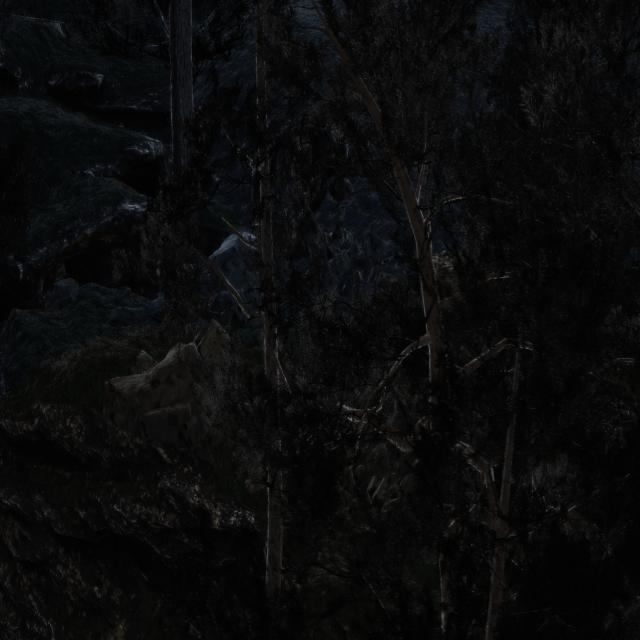Human: (291, 362, 322, 464)
